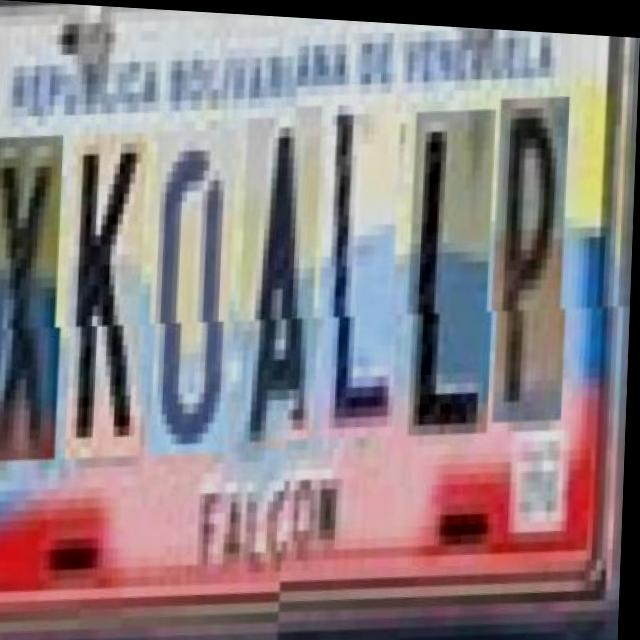0: (153, 128, 244, 462)
a: (243, 116, 328, 460)
k: (70, 131, 155, 464)
l: (411, 120, 502, 454), (322, 103, 407, 457)
p: (495, 109, 575, 441)
x: (0, 133, 69, 466)
